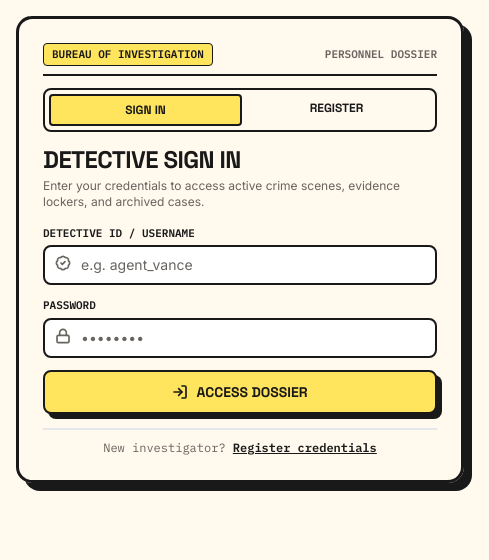
Test case: Authentication Dedicated Pages (/login, /signup) › LoginPage (/login) › displays error if credentials are rejected
Type "wrong_agent" into the field labelled "Detective ID / Username" at (240, 265), box [43,245,437,285]
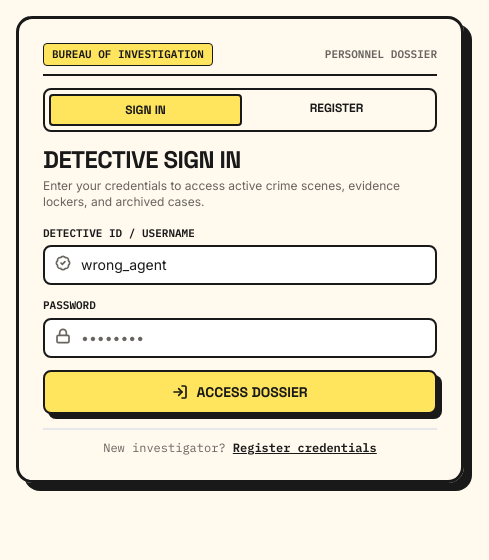
Type "WrongPass!" into the password field labelled "Password" at (240, 338), box [43,318,437,358]
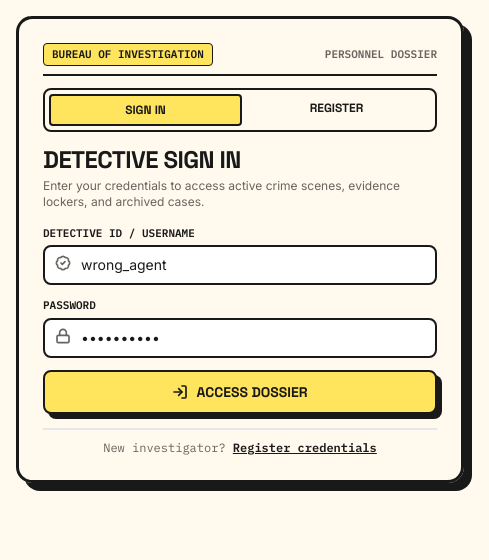
Click the button "ACCESS DOSSIER" at (240, 392), box [43,370,437,414]
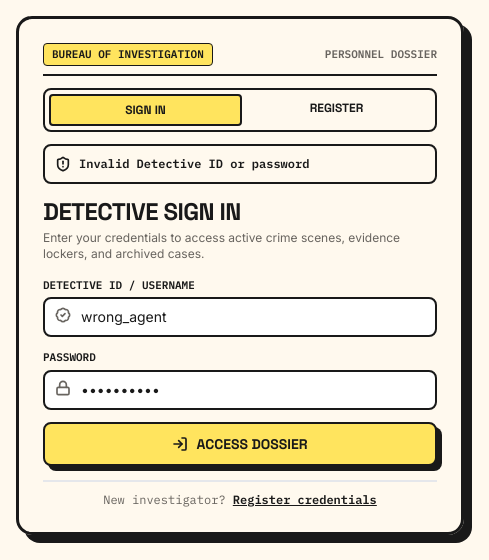
expect the text "Invalid Detective ID or password" is shown: met, box [79,156,309,172]
